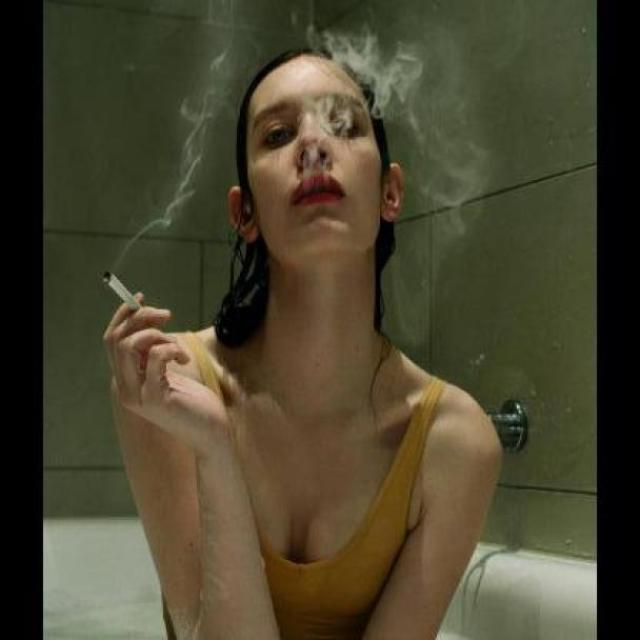rokok: (98, 264, 136, 308)
